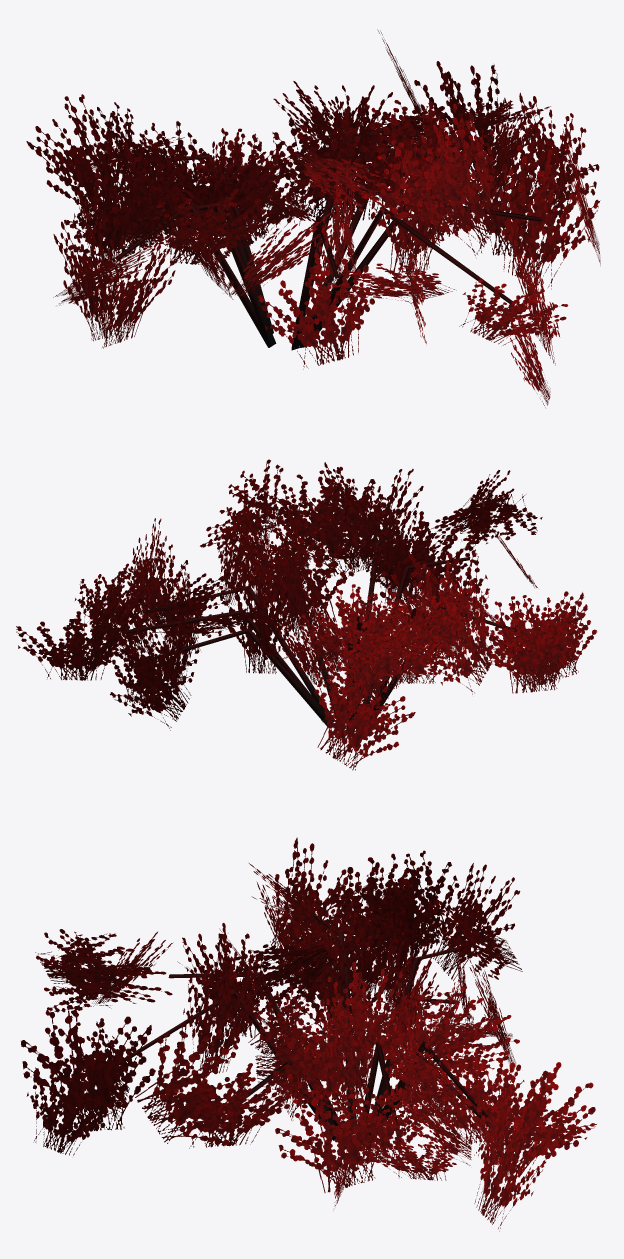
The model's file is bush_highlands_heather_a.glb.
The picture shows the model from 3 angles, top to bottom: view 1: azimuth 30°, elevation 25°; view 2: azimuth 150°, elevation 25°; view 3: azimuth 270°, elevation 25°; orthographic projection. The views are drawn at different scales.
Parts seen in each view (by area): view 1: bush_highlands_heather_a; view 2: bush_highlands_heather_a; view 3: bush_highlands_heather_a.
Boxes of the visible parts, box(x1,y1,x2,y2) form: bush_highlands_heather_a: box(26, 29, 600, 407); bush_highlands_heather_a: box(16, 459, 597, 770); bush_highlands_heather_a: box(21, 837, 596, 1231).
Bounding box in the file's own units: 1.62 × 0.6995 × 1.5.
Materials: 1 (1 with a texture image).
